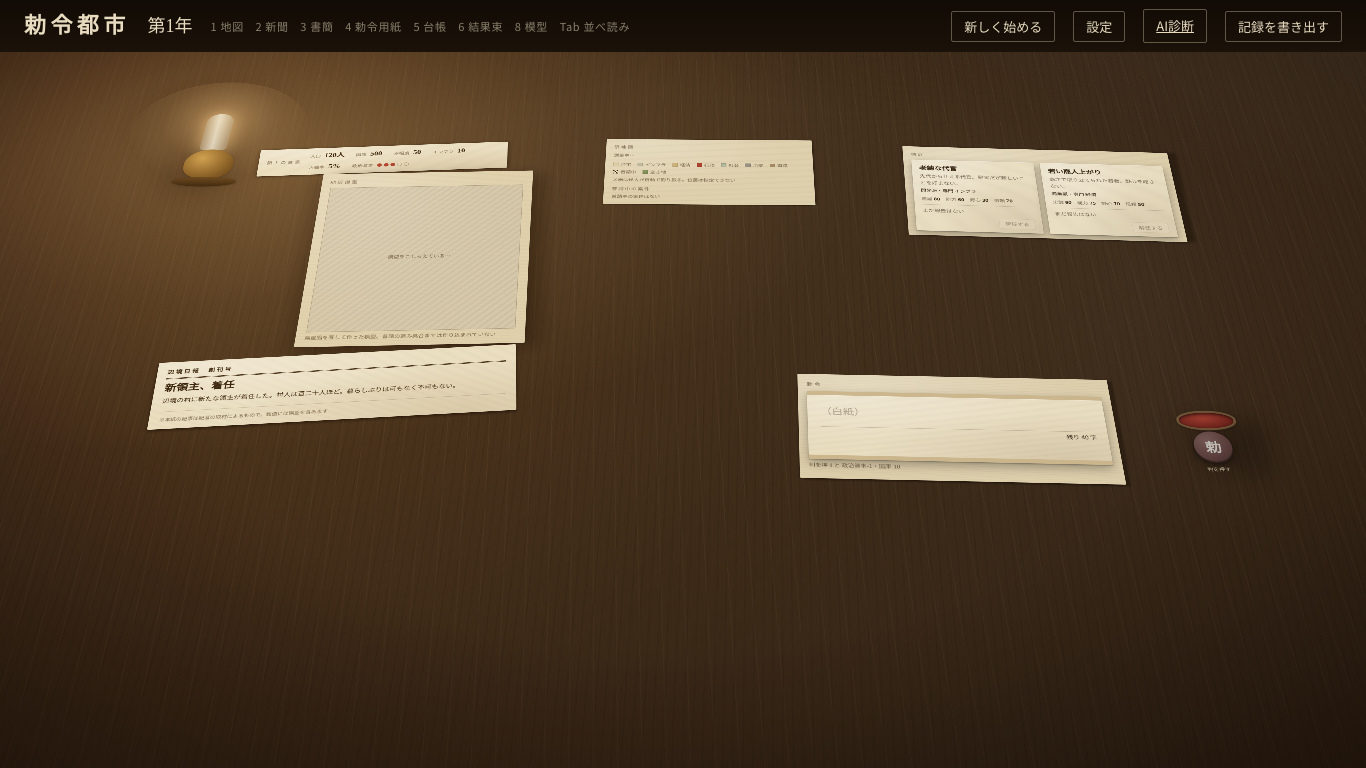
Scenario: 表示される情報は、平面モードと立体の机で同じ › 書きかけは俯瞰の紙にも同じ文面・残り字数で写る
Expected: the text "第1年" is shown, [148, 11, 193, 41]
Press 4
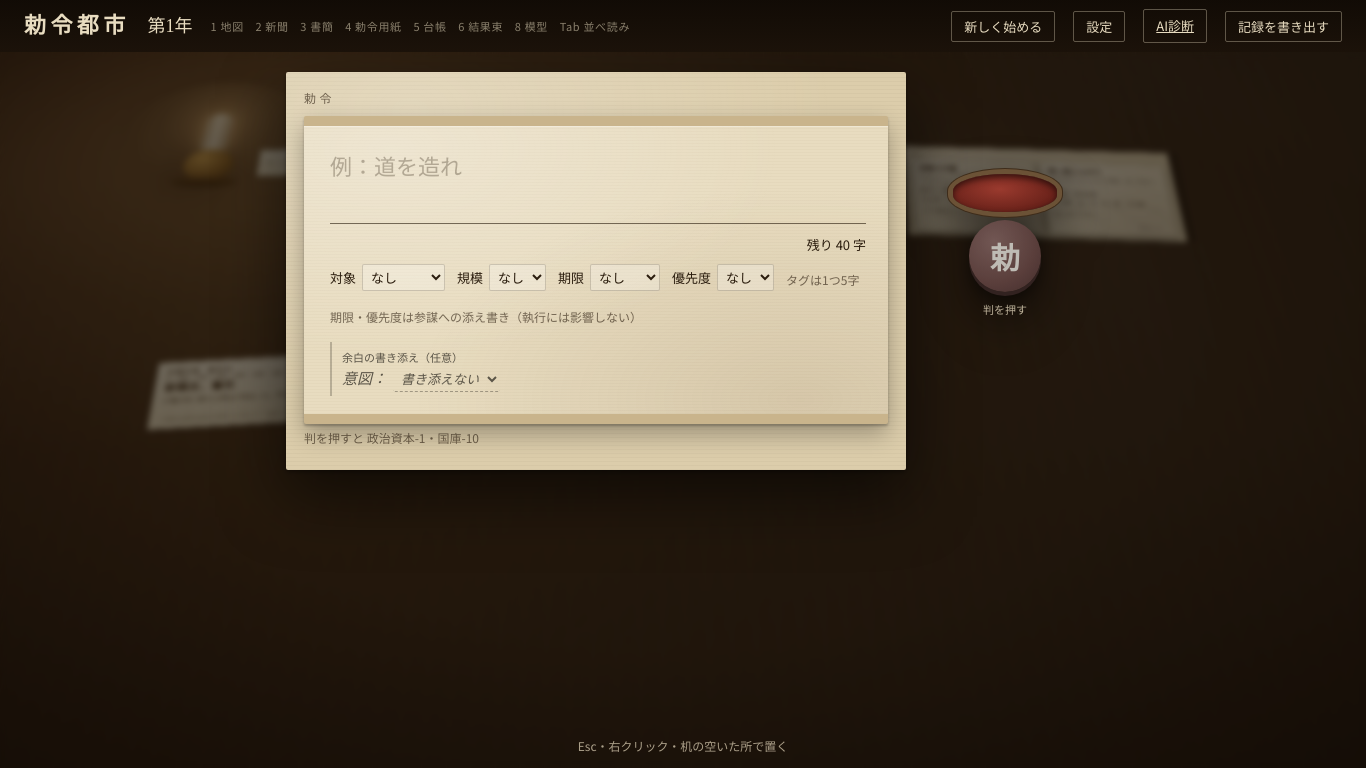
Type "井戸を掘れ" into the text box with class "decree-text" at (598, 186), box [330, 148, 866, 224]
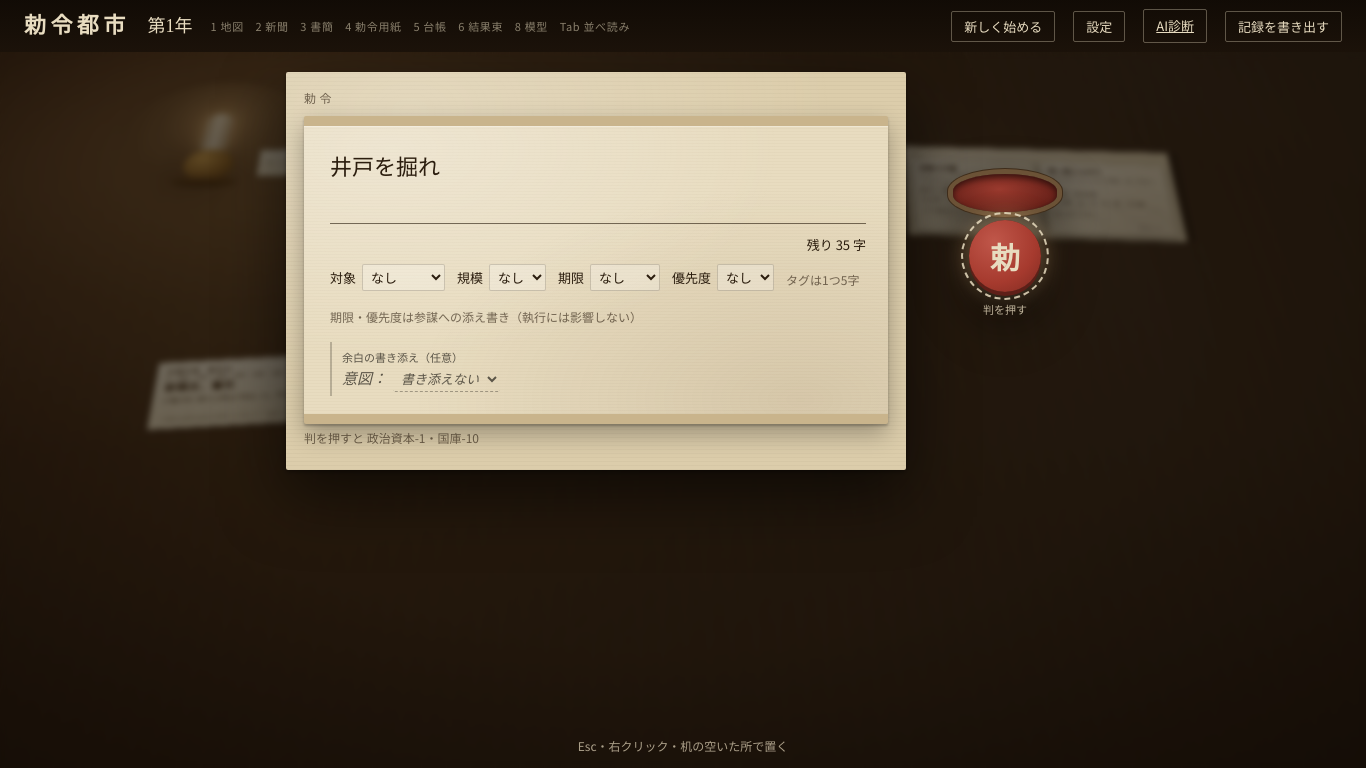
Press Escape
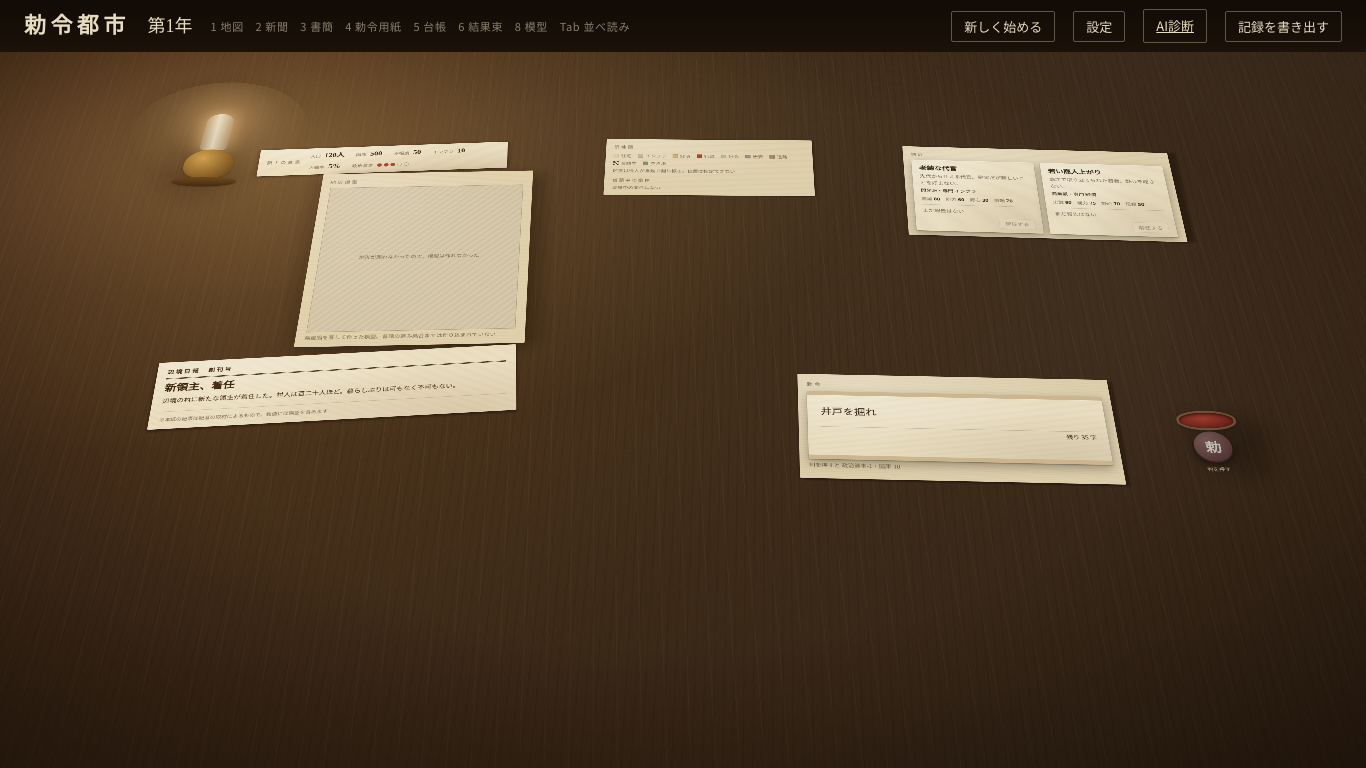
Expected: the text with test id "decree-preview" reads "井戸を掘れ", [820, 406, 877, 418]
